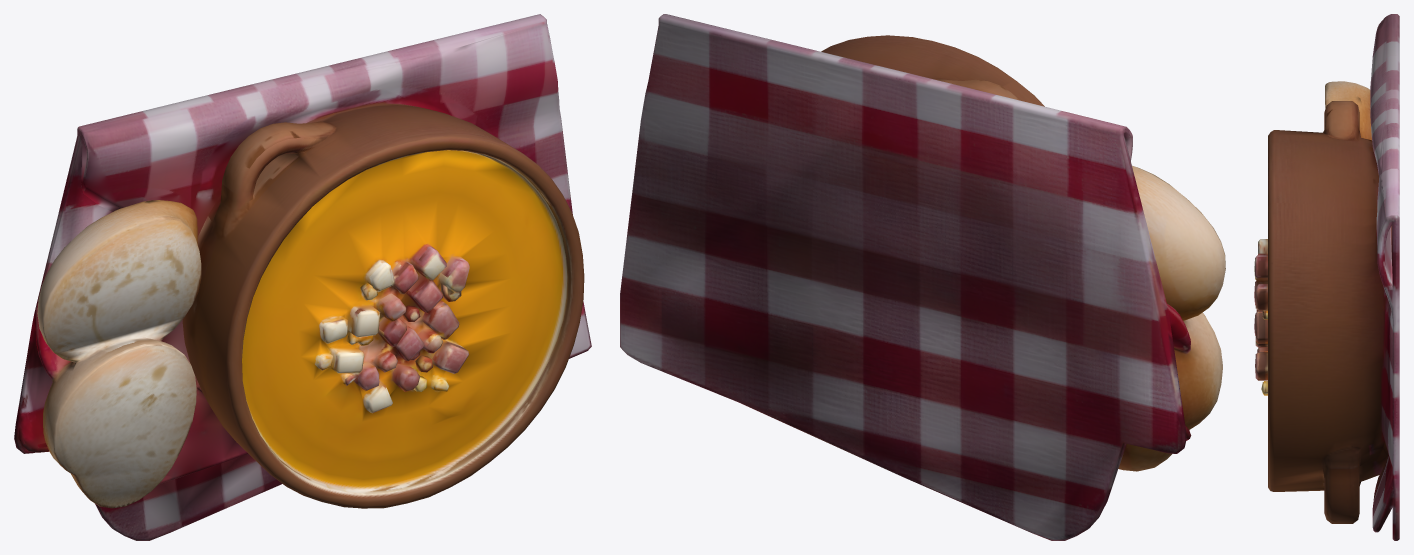
The model's file is Salmorejo.fbx.
The picture shows the model from 3 angles, left to right: view 1: azimuth 30°, elevation 25°; view 2: azimuth 150°, elevation 25°; view 3: azimuth 270°, elevation 25°; orthographic projection. The views are drawn at different scales.
Visible parts, largest first — view 1: mesh_rep_0_ori_repair_quad; view 2: mesh_rep_0_ori_repair_quad; view 3: mesh_rep_0_ori_repair_quad.
Boxes of the visible parts, box(x1,y1,x2,y2) form: mesh_rep_0_ori_repair_quad: box(14, 14, 591, 540); mesh_rep_0_ori_repair_quad: box(620, 14, 1225, 540); mesh_rep_0_ori_repair_quad: box(1254, 14, 1399, 540).
Size of the model in its own units: 150 by 108 by 36.91.
Materials: 1 (1 with a texture image).
